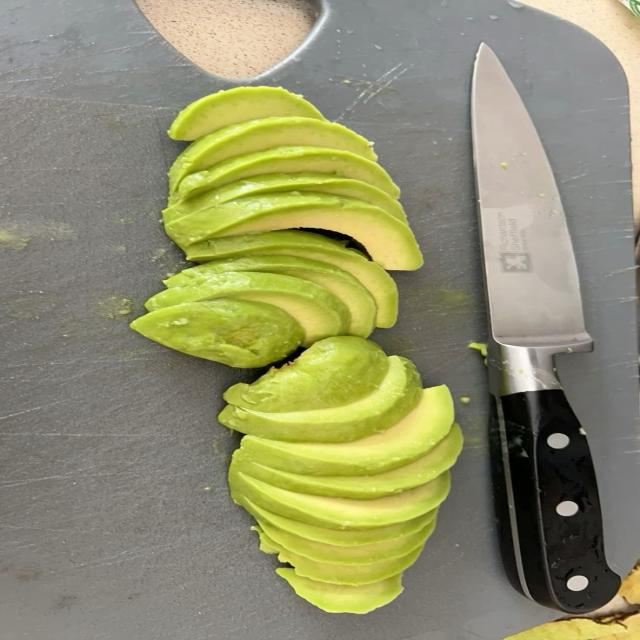avocado: (187, 230, 398, 327), (166, 192, 422, 270), (241, 386, 453, 475), (219, 356, 421, 442), (165, 256, 376, 337), (234, 425, 462, 499), (169, 117, 377, 191), (146, 273, 350, 346), (229, 462, 450, 529), (169, 146, 399, 204), (163, 172, 406, 223), (224, 337, 388, 411), (131, 300, 304, 367), (232, 492, 436, 547), (256, 527, 422, 585), (258, 514, 435, 565), (168, 87, 325, 140), (276, 568, 403, 614)
